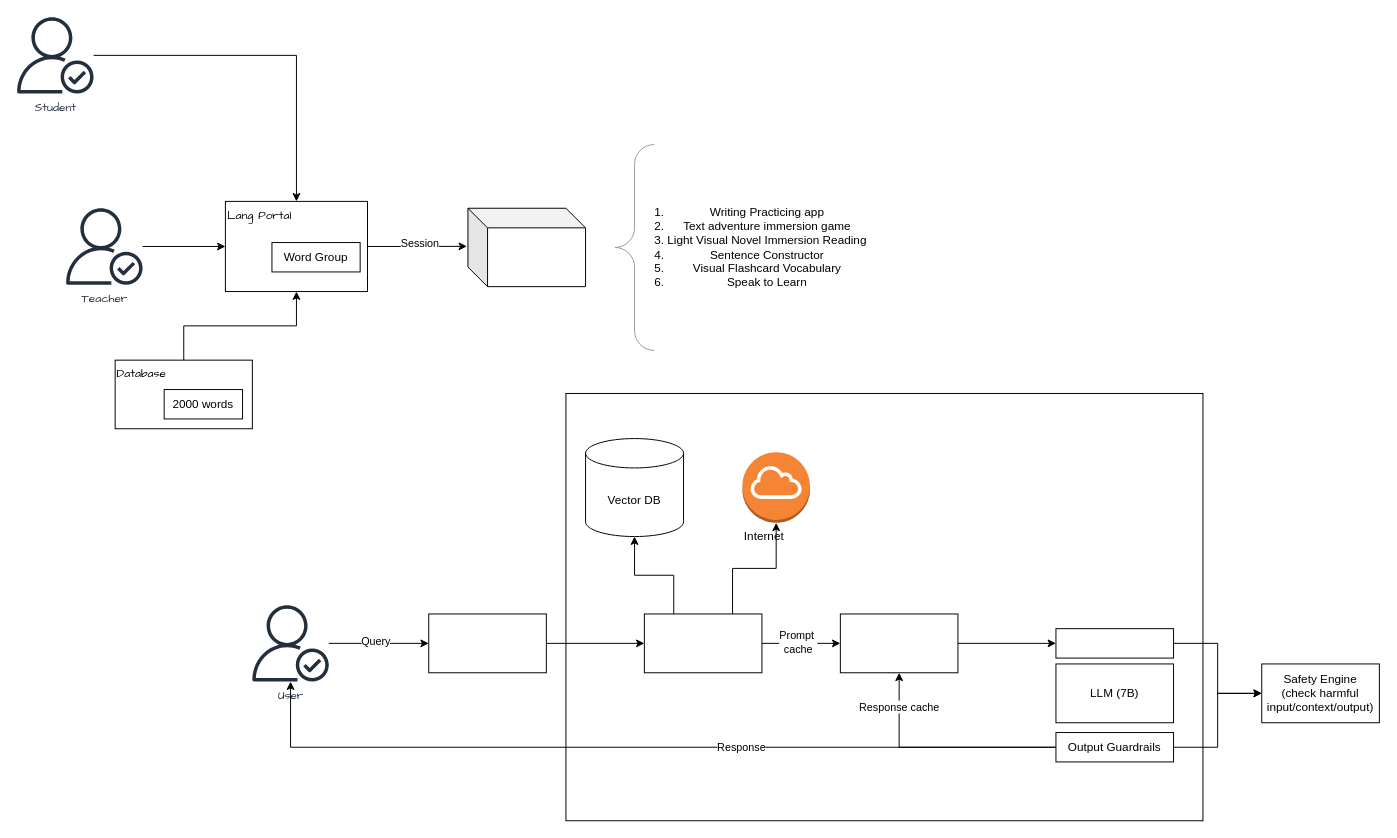
Some shapes in this 1397 by 838 pixel diagram are drawn without their labels. Each missing label, with the box of its shape:
API Gateway (auth/rate limiting): (428, 613, 546, 673)
Cache: (839, 613, 958, 673)
Input Guardrails: (1055, 628, 1174, 658)
RAG: (643, 613, 762, 673)
Study activities: (467, 207, 586, 287)
Study Activity (Sentence Constructor): (565, 392, 1203, 821)
